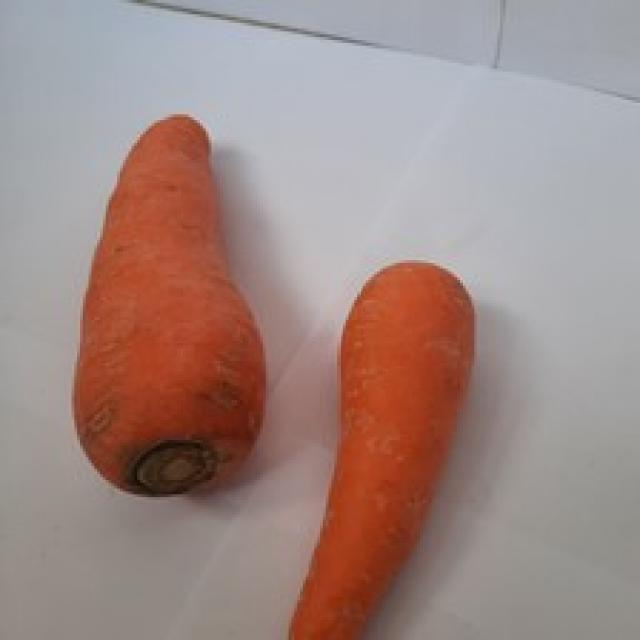carrot: (74, 113, 272, 499), (282, 260, 477, 640)
